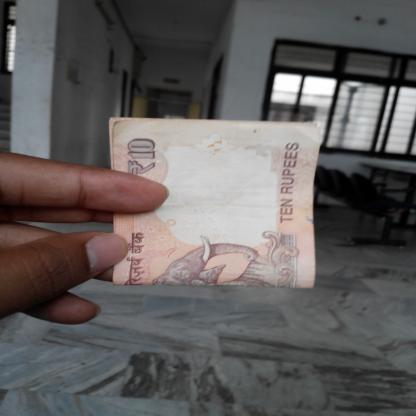Old10Back: (106, 116, 322, 290)
